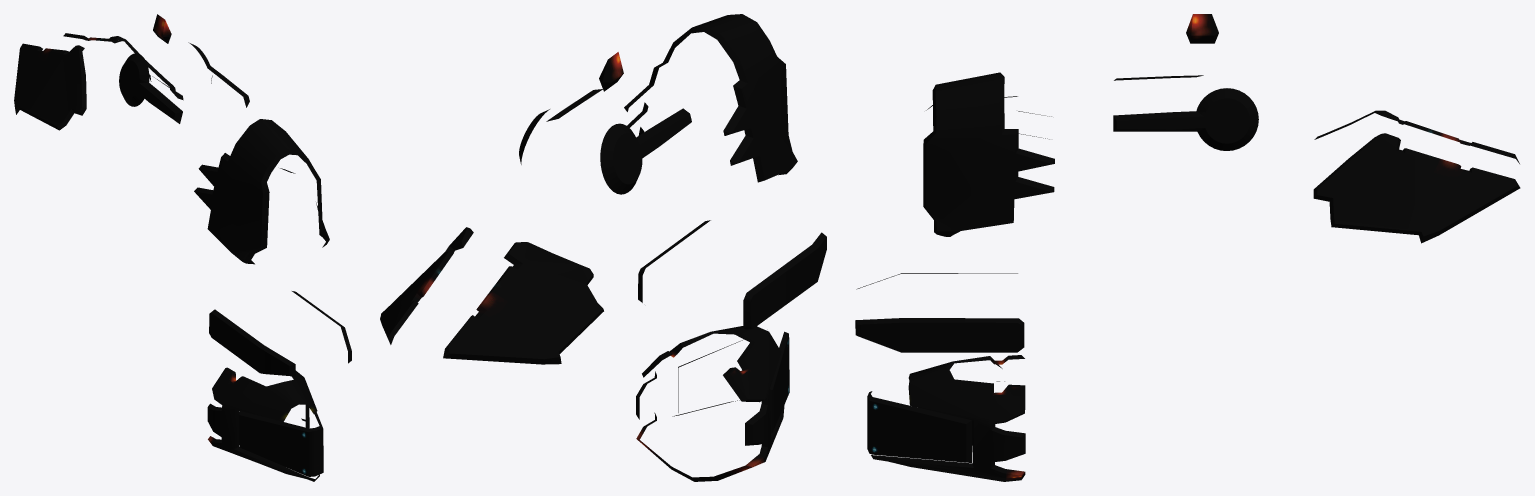
File: yao_cd_dest_01_t2.glb
3 views of the same model, side by side, from view 1: azimuth 30°, elevation 25°; view 2: azimuth 150°, elevation 25°; view 3: azimuth 270°, elevation 25° (orthographic). The views are drawn at different scales.
Visible parts, largest first — view 1: yao_destroyer_01_t2_LOD0; view 2: yao_destroyer_01_t2_LOD0; view 3: yao_destroyer_01_t2_LOD0.
Boxes of the visible parts, <box> form: yao_destroyer_01_t2_LOD0: <box>14,14,351,481</box>; yao_destroyer_01_t2_LOD0: <box>380,14,826,481</box>; yao_destroyer_01_t2_LOD0: <box>855,14,1520,481</box>.
Size of what is drawn, in the model's own units: 1.58 by 4.26 by 5.63.
Materials: 1 (1 with a texture image).
